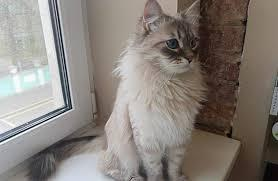animals: (30, 0, 217, 181)
